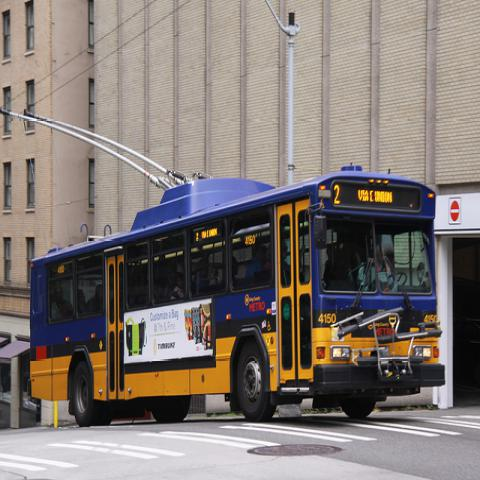bus: (30, 170, 450, 428)
